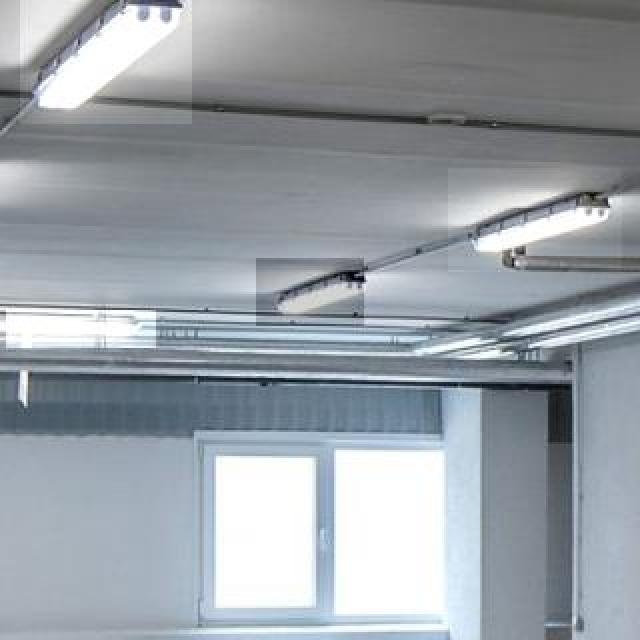fluorescent tube: (24, 0, 186, 122), (463, 174, 621, 263), (258, 260, 375, 322)
